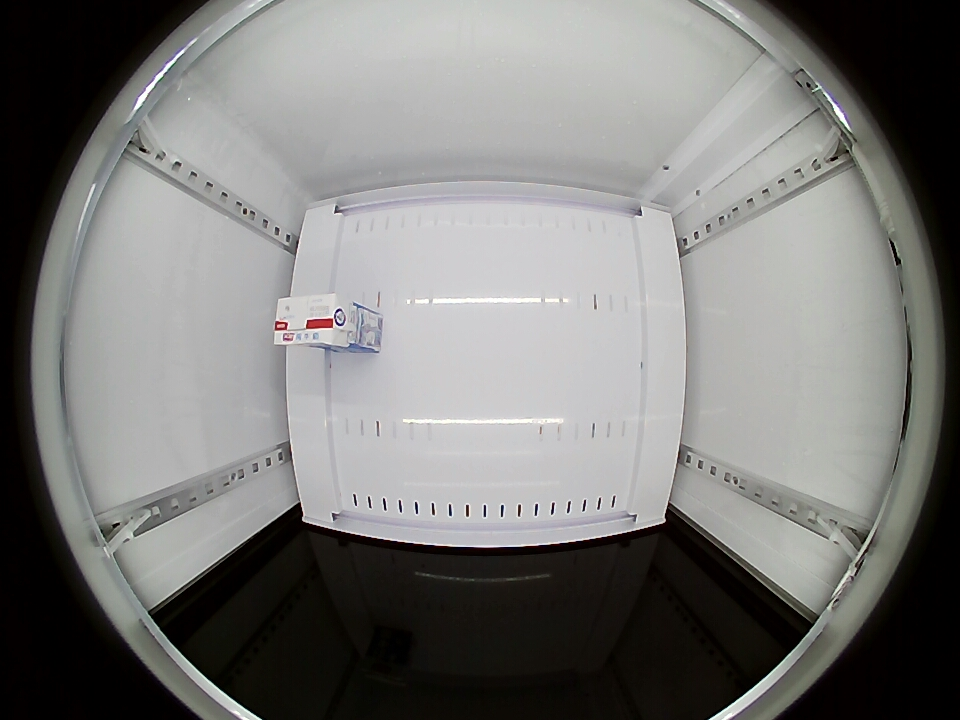niunai: (272, 292, 356, 349)
